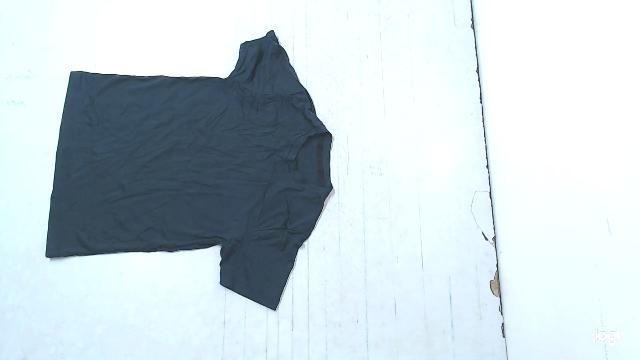new-garment: (46, 30, 332, 310)
